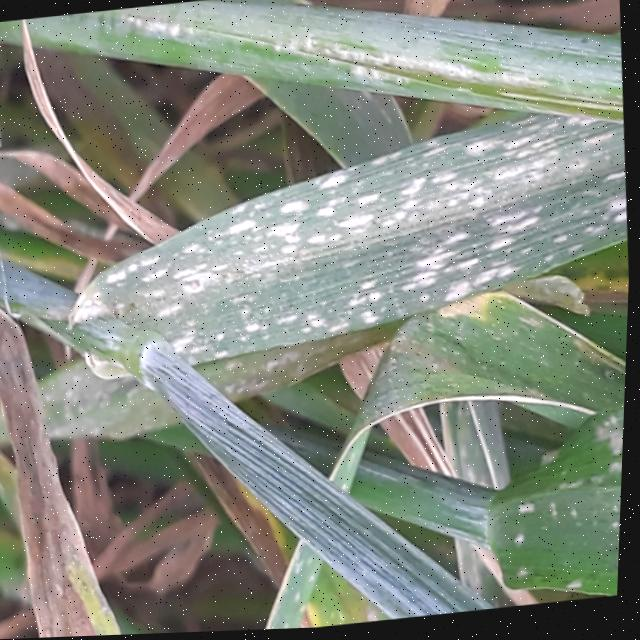powder_mildew: (49, 32, 639, 371), (246, 325, 630, 632), (0, 218, 155, 640), (73, 0, 478, 94), (0, 15, 74, 228)
